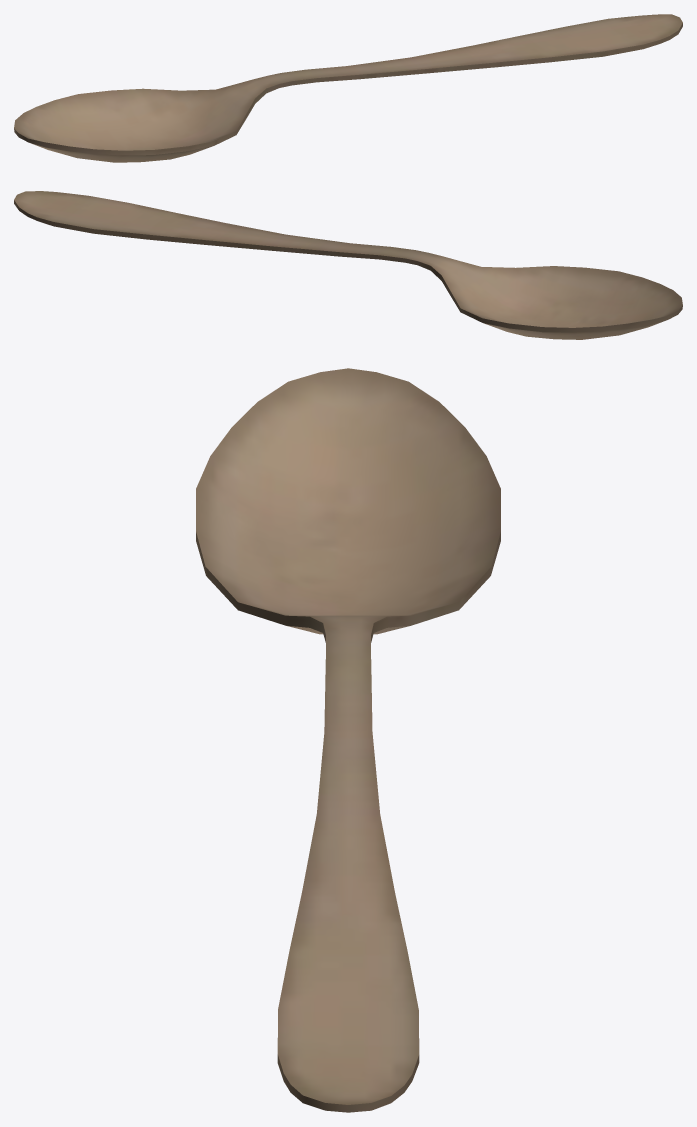
File: SM_teaspoon_981216.glb
The picture shows the model from 3 angles, top to bottom: view 1: azimuth 30°, elevation 25°; view 2: azimuth 150°, elevation 25°; view 3: azimuth 270°, elevation 25°; orthographic projection. The views are drawn at different scales.
Size of the model in its own units: 0.0961 by 0.00717 by 0.0192.
Materials: 1 (1 with a texture image).
